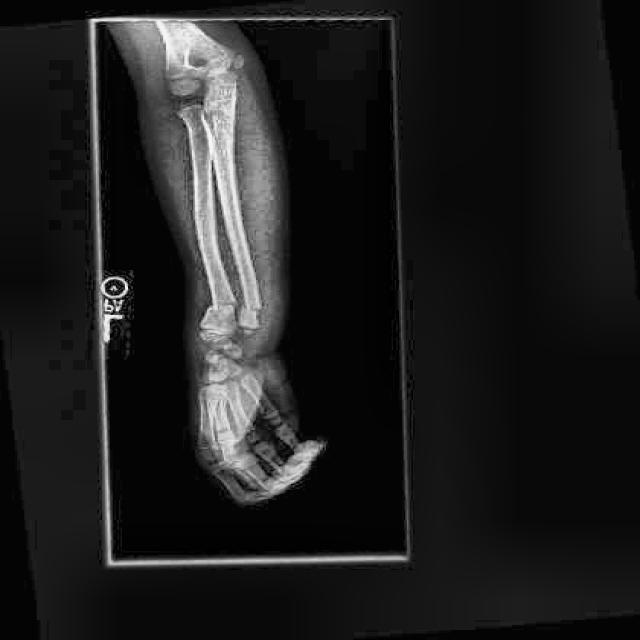forearm fracture: (200, 288, 241, 315), (234, 299, 271, 319)
